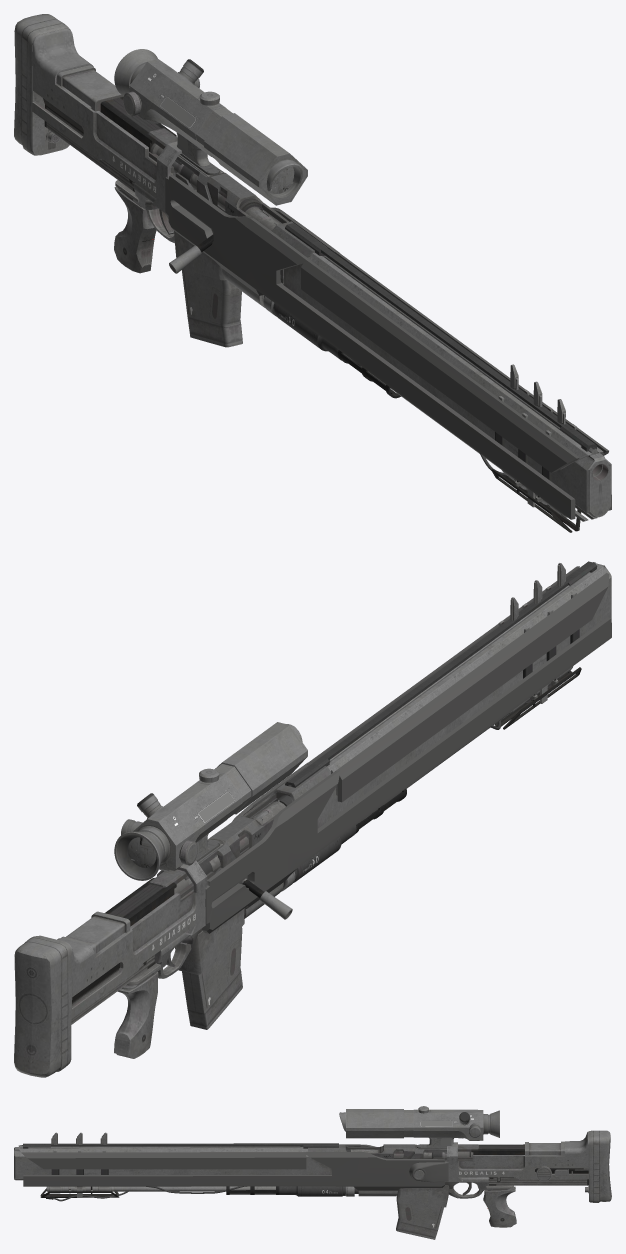
Rendered from borealis.gltf.
3 renders of one model, top to bottom at view 1: azimuth 30°, elevation 25°; view 2: azimuth 150°, elevation 25°; view 3: azimuth 270°, elevation 25°, orthographic. The views are drawn at different scales.
Visible parts, largest first — view 1: mesh_3380040586-0_0_1_gbuffer, mesh_3380040586-0_0_4_transparents, mesh_52469891-0_0_1_gbuffer, mesh_3380040586-0_0_0_gbuffer, mesh_52469891-0_0_2_gbuffer, mesh_3380040586-0_0_2_gbuffer, mesh_1397541642-0_0_0_gbuffer, mesh_1397541642-0_0_1_transparents, mesh_3380040586-0_0_5_transparents; view 2: mesh_3380040586-0_0_1_gbuffer, mesh_3380040586-0_0_4_transparents, mesh_52469891-0_0_1_gbuffer, mesh_52469891-0_0_2_gbuffer, mesh_3380040586-0_0_2_gbuffer, mesh_1397541642-0_0_0_gbuffer, mesh_3380040586-0_0_0_gbuffer, mesh_1397541642-0_0_1_transparents, mesh_52469891-0_0_0_gbuffer; view 3: mesh_3380040586-0_0_1_gbuffer, mesh_3380040586-0_0_4_transparents, mesh_3380040586-0_0_2_gbuffer, mesh_3380040586-0_0_0_gbuffer, mesh_52469891-0_0_1_gbuffer, mesh_52469891-0_0_2_gbuffer, mesh_1397541642-0_0_0_gbuffer, mesh_3380040586-0_0_5_transparents, mesh_1397541642-0_0_1_transparents, mesh_52469891-0_0_5_transparents, mesh_52469891-0_0_3_transparents.
Boxes of the visible parts, <box> form: mesh_3380040586-0_0_1_gbuffer: <box>14,14,603,532</box>; mesh_3380040586-0_0_4_transparents: <box>165,175,611,519</box>; mesh_52469891-0_0_1_gbuffer: <box>114,49,307,205</box>; mesh_3380040586-0_0_0_gbuffer: <box>284,256,611,517</box>; mesh_52469891-0_0_2_gbuffer: <box>129,59,302,191</box>; mesh_3380040586-0_0_2_gbuffer: <box>46,65,576,469</box>; mesh_1397541642-0_0_0_gbuffer: <box>169,234,567,517</box>; mesh_1397541642-0_0_1_transparents: <box>187,317,242,343</box>; mesh_3380040586-0_0_5_transparents: <box>308,257,611,516</box>; mesh_3380040586-0_0_1_gbuffer: <box>14,561,603,1077</box>; mesh_3380040586-0_0_4_transparents: <box>202,566,611,933</box>; mesh_52469891-0_0_1_gbuffer: <box>114,722,307,880</box>; mesh_52469891-0_0_2_gbuffer: <box>121,724,302,871</box>; mesh_3380040586-0_0_2_gbuffer: <box>61,563,576,955</box>; mesh_1397541642-0_0_0_gbuffer: <box>182,666,573,1029</box>; mesh_3380040586-0_0_0_gbuffer: <box>317,563,611,828</box>; mesh_1397541642-0_0_1_transparents: <box>187,971,242,1026</box>; mesh_52469891-0_0_0_gbuffer: <box>128,837,156,867</box>; mesh_3380040586-0_0_1_gbuffer: <box>18,1130,611,1227</box>; mesh_3380040586-0_0_4_transparents: <box>21,1144,448,1190</box>; mesh_3380040586-0_0_2_gbuffer: <box>46,1132,588,1199</box>; mesh_3380040586-0_0_0_gbuffer: <box>14,1147,331,1180</box>; mesh_52469891-0_0_1_gbuffer: <box>346,1109,499,1138</box>; mesh_52469891-0_0_2_gbuffer: <box>339,1106,483,1147</box>; mesh_1397541642-0_0_0_gbuffer: <box>46,1169,568,1239</box>; mesh_3380040586-0_0_5_transparents: <box>14,1148,331,1179</box>; mesh_1397541642-0_0_1_transparents: <box>396,1219,437,1238</box>; mesh_52469891-0_0_5_transparents: <box>420,1121,454,1145</box>; mesh_52469891-0_0_3_transparents: <box>404,1110,413,1137</box>.
Bounding box in the file's own units: 1.37 × 3.44 × 14.27.
21 materials, 21 textured.
